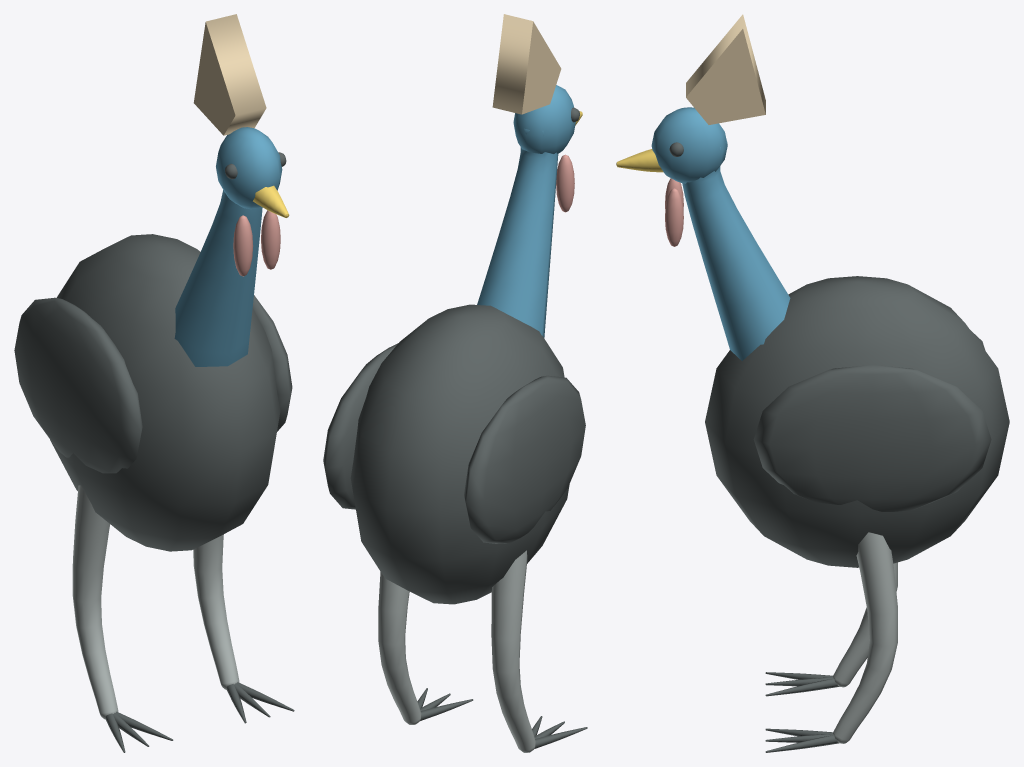
Rendered from outback-and-australian-wildlife-southern-cassowary-a55d680f__5919.glb.
3 renders of one model, left to right at view 1: azimuth 30°, elevation 25°; view 2: azimuth 150°, elevation 25°; view 3: azimuth 270°, elevation 25°, orthographic. The views are drawn at different scales.
Visible parts, largest first — view 1: southern-cassowary; view 2: southern-cassowary; view 3: southern-cassowary.
Part boxes in pixels (left/top/right/bottom): southern-cassowary: left=14, top=14, right=294, bottom=752; southern-cassowary: left=323, top=14, right=587, bottom=752; southern-cassowary: left=616, top=14, right=1009, bottom=752.
Size of the model in its own units: 0.5562 by 2.01 by 1.03.
